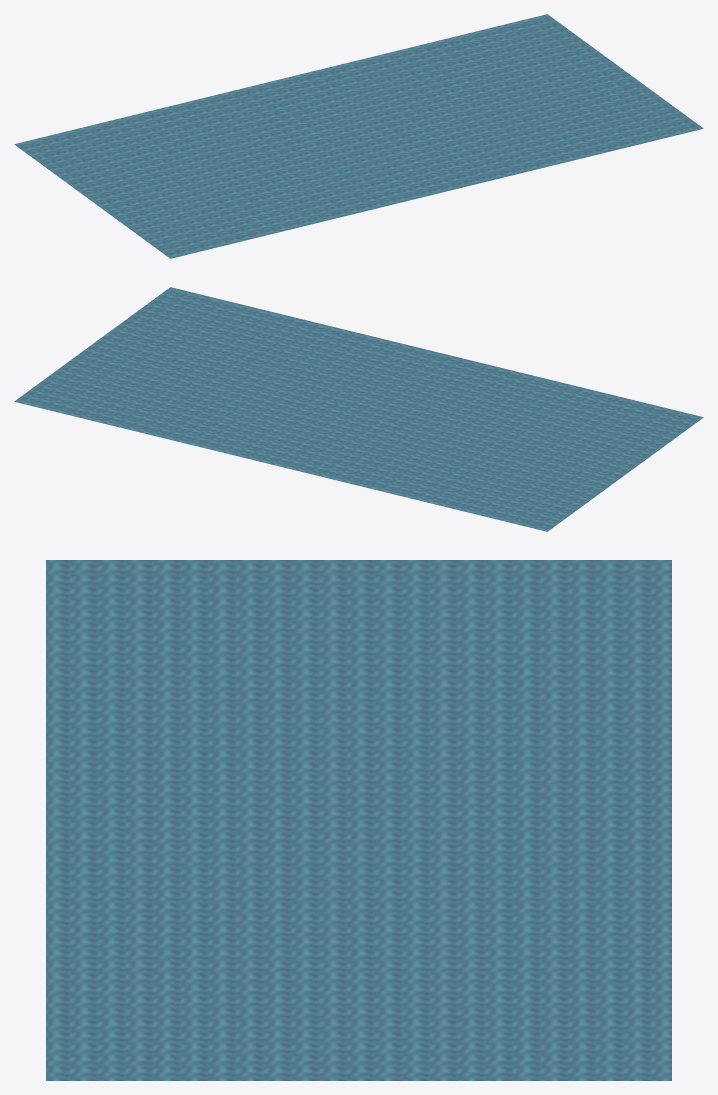
The model's file is terrenoAgua-finallambert.dae.
3 views of the same model, one above another, from view 1: azimuth 30°, elevation 25°; view 2: azimuth 150°, elevation 25°; view 3: azimuth 270°, elevation 25° (orthographic). The views are drawn at different scales.
Visible parts, largest first — view 1: pPlane1; view 2: pPlane1; view 3: pPlane1.
Boxes of the visible parts, x1,y1,x2,y2 form: pPlane1: [14, 14, 703, 258]; pPlane1: [14, 287, 703, 531]; pPlane1: [46, 560, 671, 1080].
Size of the model in its own units: 3985 by 0.00031 by 2025.
1 material, 1 textured.
